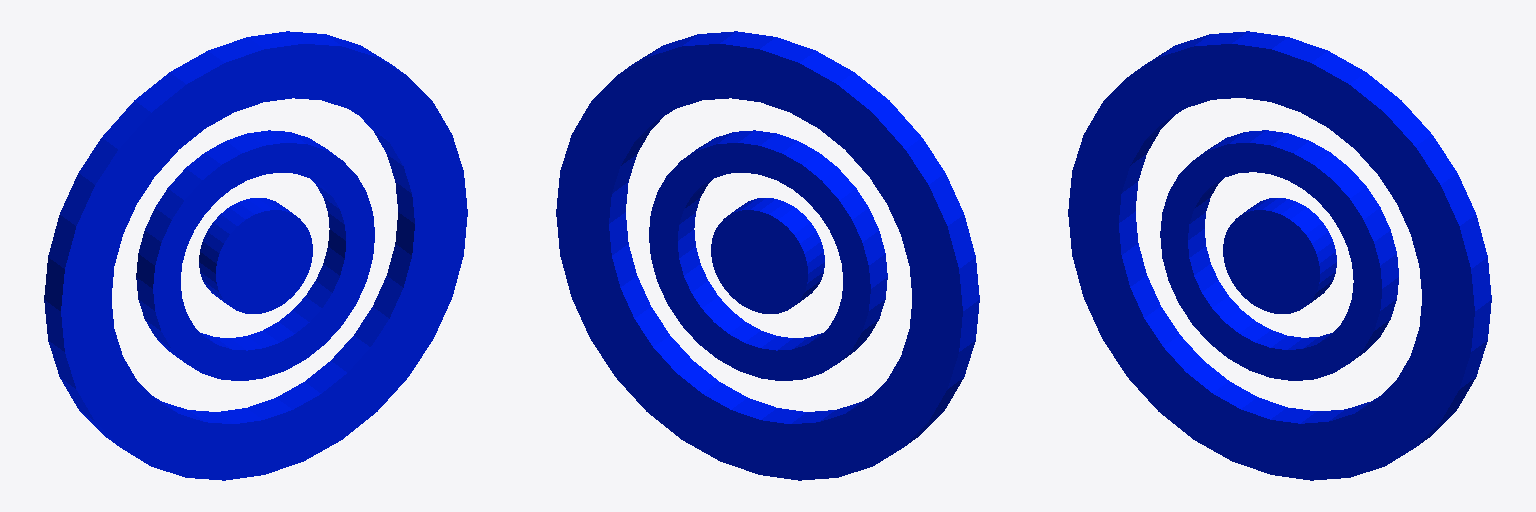
File: BlueSign.obj
3 renders of one model, left to right at view 1: azimuth 30°, elevation 25°; view 2: azimuth 150°, elevation 25°; view 3: azimuth 330°, elevation 25°, orthographic.
Visible parts, largest first — view 1: Bluesign_Plane.002; view 2: Bluesign_Plane.002; view 3: Bluesign_Plane.002.
Boxes of the visible parts, x1,y1,x2,y2 form: Bluesign_Plane.002: [44, 31, 467, 480]; Bluesign_Plane.002: [556, 31, 979, 480]; Bluesign_Plane.002: [1068, 31, 1491, 480].
Size of the model in its own units: 2 by 2 by 0.1434.